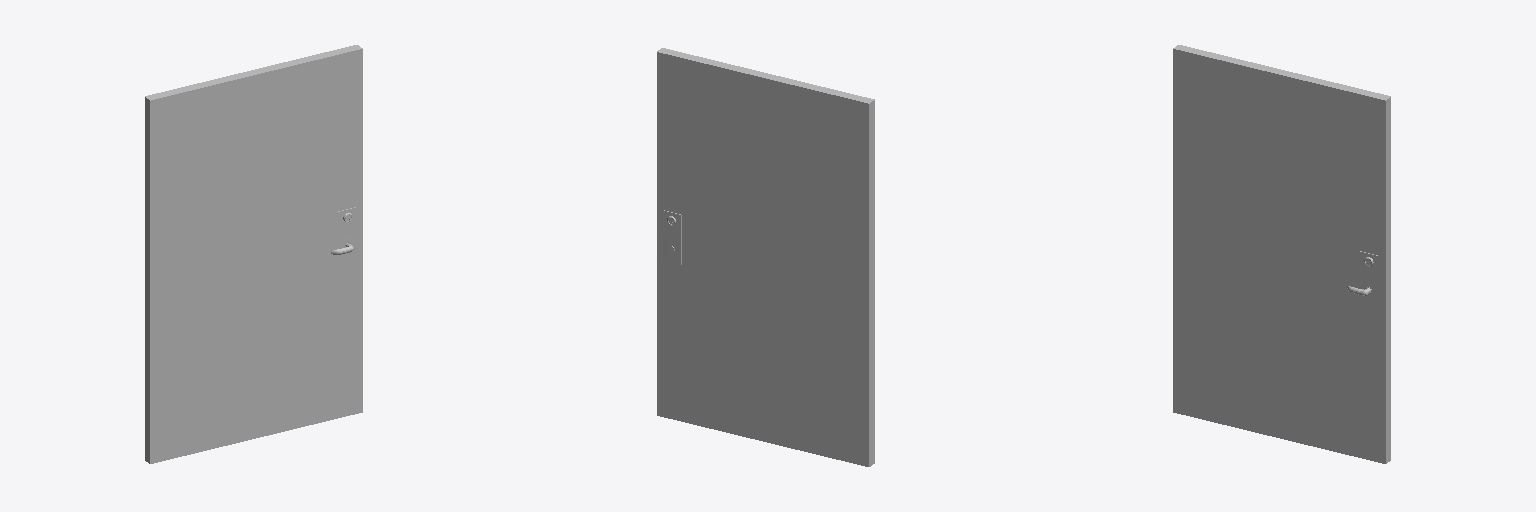
The model's file is door.obj.
3 renders of one model, left to right at view 1: azimuth 30°, elevation 25°; view 2: azimuth 150°, elevation 25°; view 3: azimuth 330°, elevation 25°, orthographic.
Parts seen in each view (by area): view 1: DoorWithWindow polySurface1; view 2: DoorWithWindow polySurface1; view 3: DoorWithWindow polySurface1.
Boxes of the visible parts, box(x1,y1,x2,y2) form: DoorWithWindow polySurface1: box(145, 45, 362, 463); DoorWithWindow polySurface1: box(657, 48, 874, 466); DoorWithWindow polySurface1: box(1173, 45, 1390, 463).
Bounding box in the file's own units: 130 × 212 × 13.83.